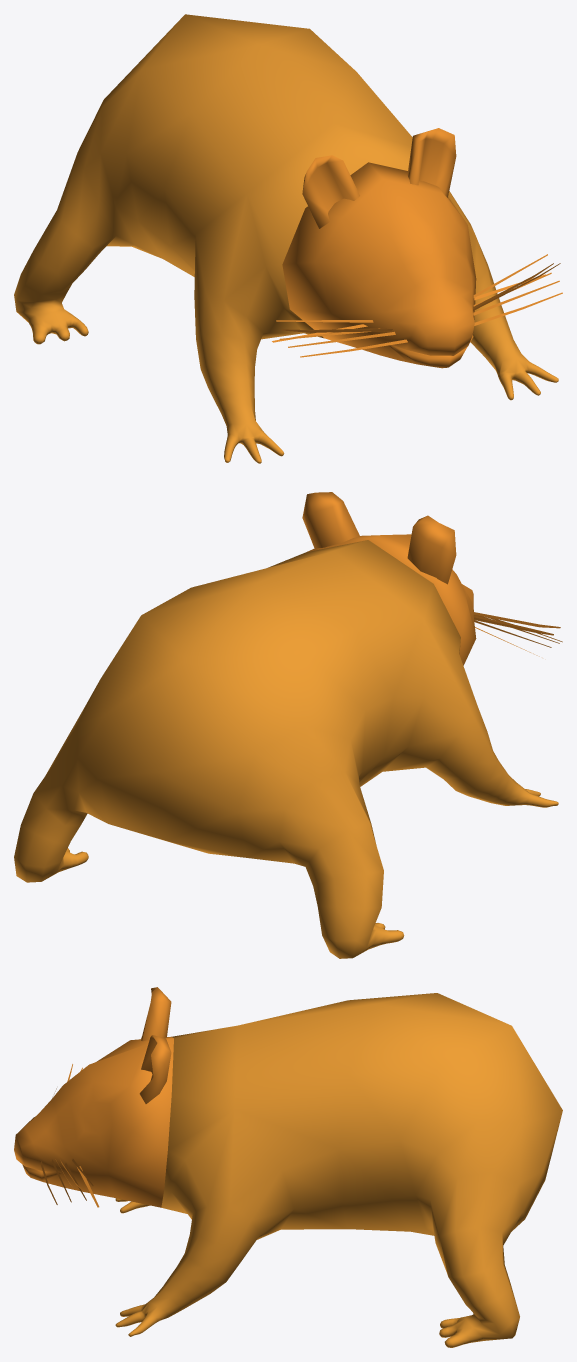
Rendered from Hamster.fbx.
The picture shows the model from 3 angles, top to bottom: view 1: azimuth 30°, elevation 25°; view 2: azimuth 150°, elevation 25°; view 3: azimuth 270°, elevation 25°; orthographic projection. The views are drawn at different scales.
Visible parts, largest first — view 1: homak, homak.001; view 2: homak, homak.001; view 3: homak, homak.001.
Part boxes in pixels (<box>): homak: <box>14,14,558,463</box>; homak.001: <box>272,128,562,368</box>; homak: <box>14,540,558,958</box>; homak.001: <box>302,492,562,665</box>; homak: <box>115,993,562,1347</box>; homak.001: <box>14,987,173,1207</box>.
Bounding box in the file's own units: 1241 × 917 × 1734.
